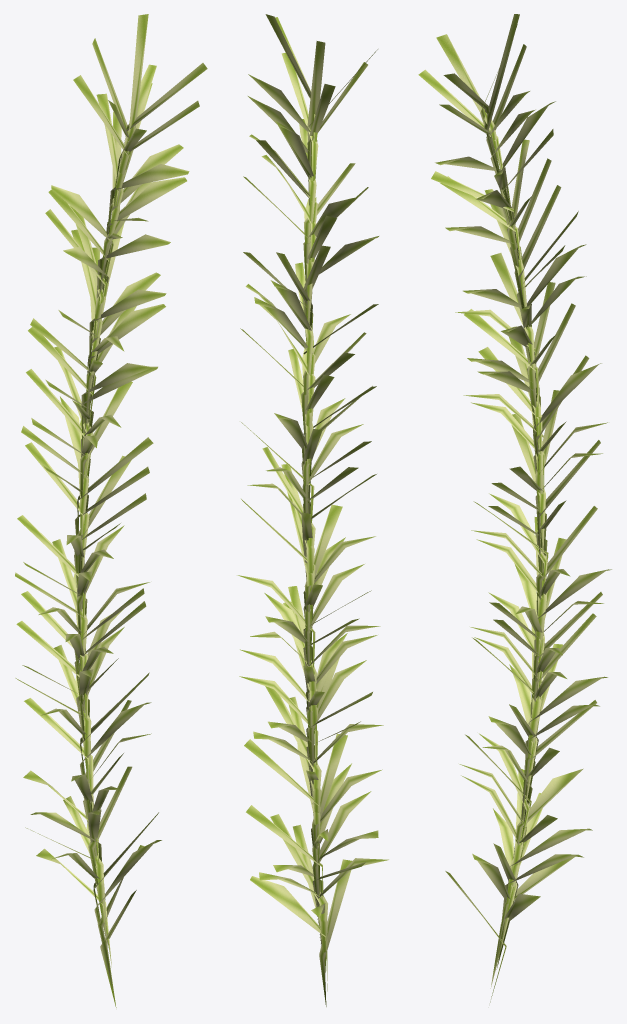
File: reeds2.glb
3 views of the same model, side by side, from view 1: azimuth 30°, elevation 25°; view 2: azimuth 150°, elevation 25°; view 3: azimuth 270°, elevation 25° (orthographic). The views are drawn at different scales.
Parts seen in each view (by area): view 1: objArch31_057_obj_01; view 2: objArch31_057_obj_01; view 3: objArch31_057_obj_01.
Boxes of the visible parts, bbox=[...] form: objArch31_057_obj_01: bbox=[15, 14, 207, 1007]; objArch31_057_obj_01: bbox=[237, 14, 388, 1006]; objArch31_057_obj_01: bbox=[418, 14, 611, 1002].
Size of the model in its own units: 6 by 39.97 by 7.
1 material, 1 textured.
